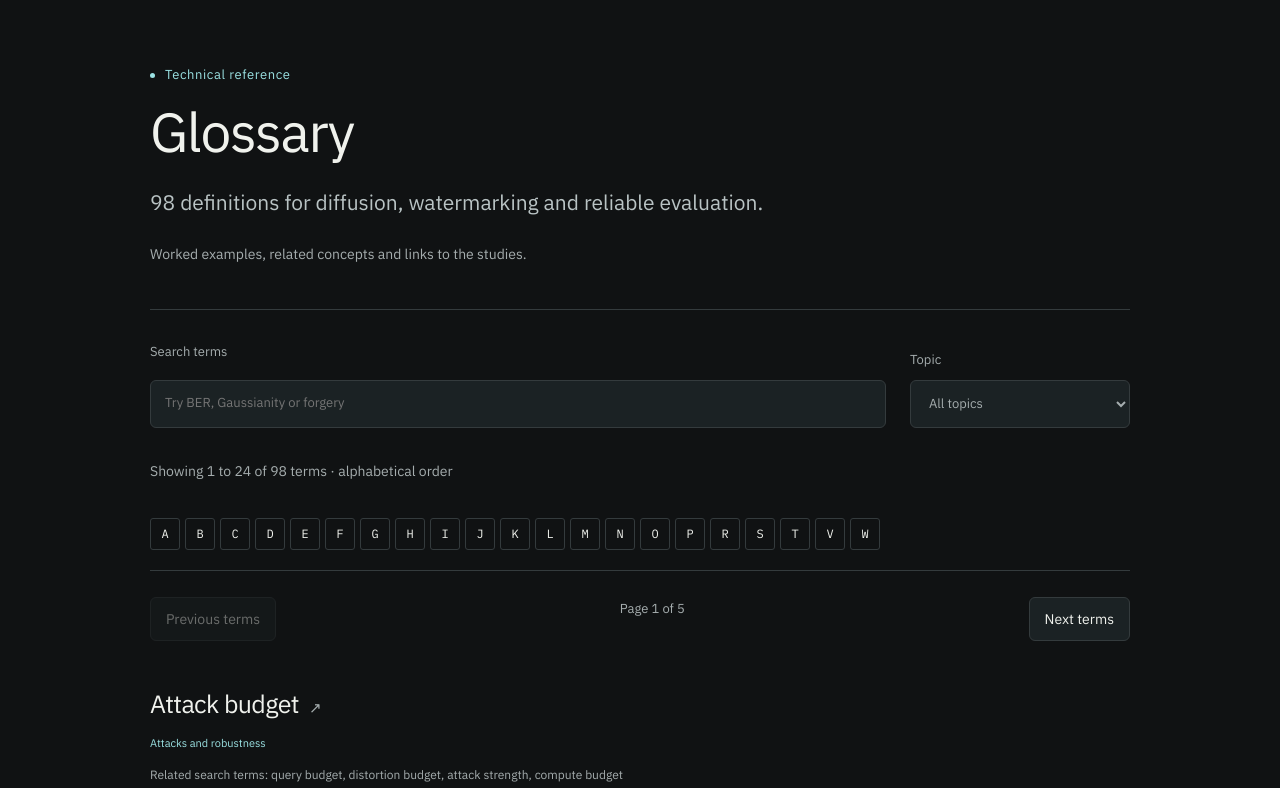
Test: glossary reading and navigation › keeps worked examples optional while the core explanation remains visible
Type "complete-message success" into the search field.
click(518, 404); type("complete-message success")  # box [150,380,886,428]
(page scrolled)
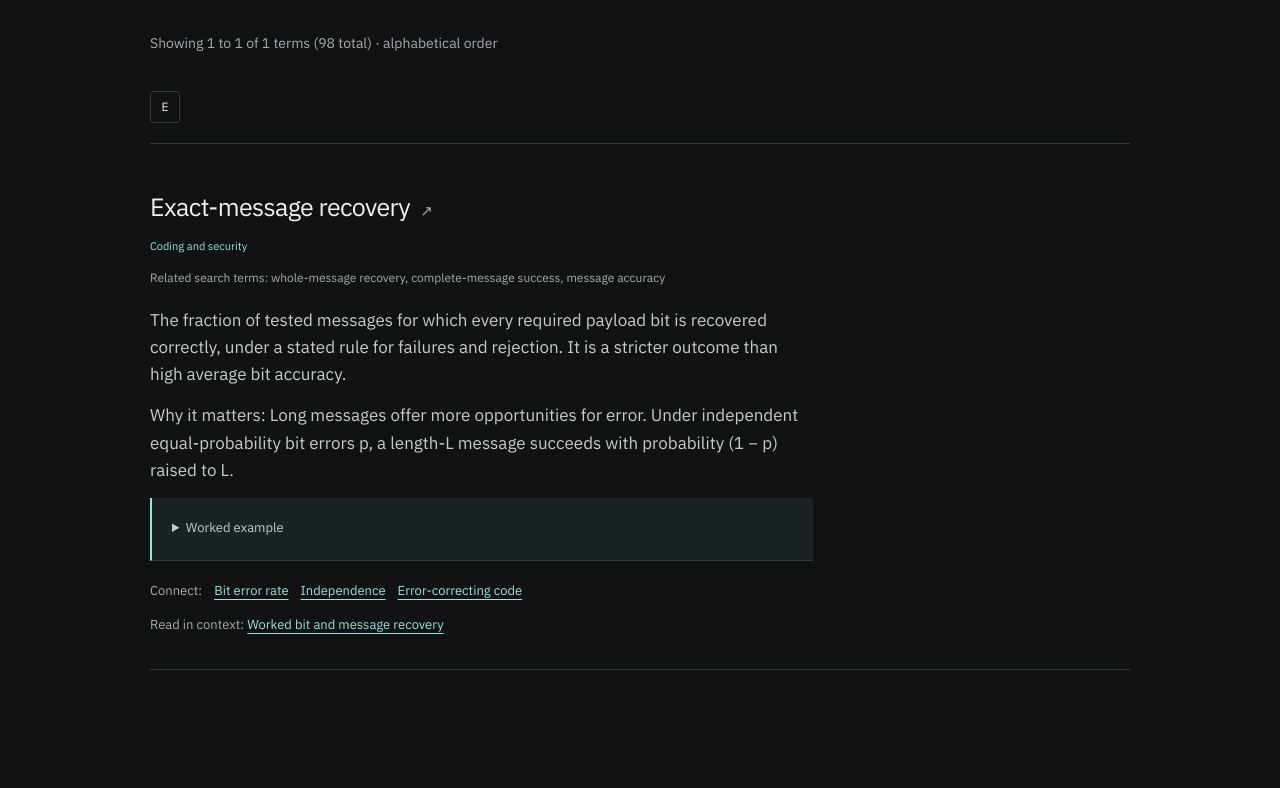
Now the text "The fraction of tested messages for which every required payload bit is recovered correctly, under a stated rule for fai" is shown, box [150,308,778,385]
Click the heading "Worked example".
click(235, 527)  # box [186,519,284,536]
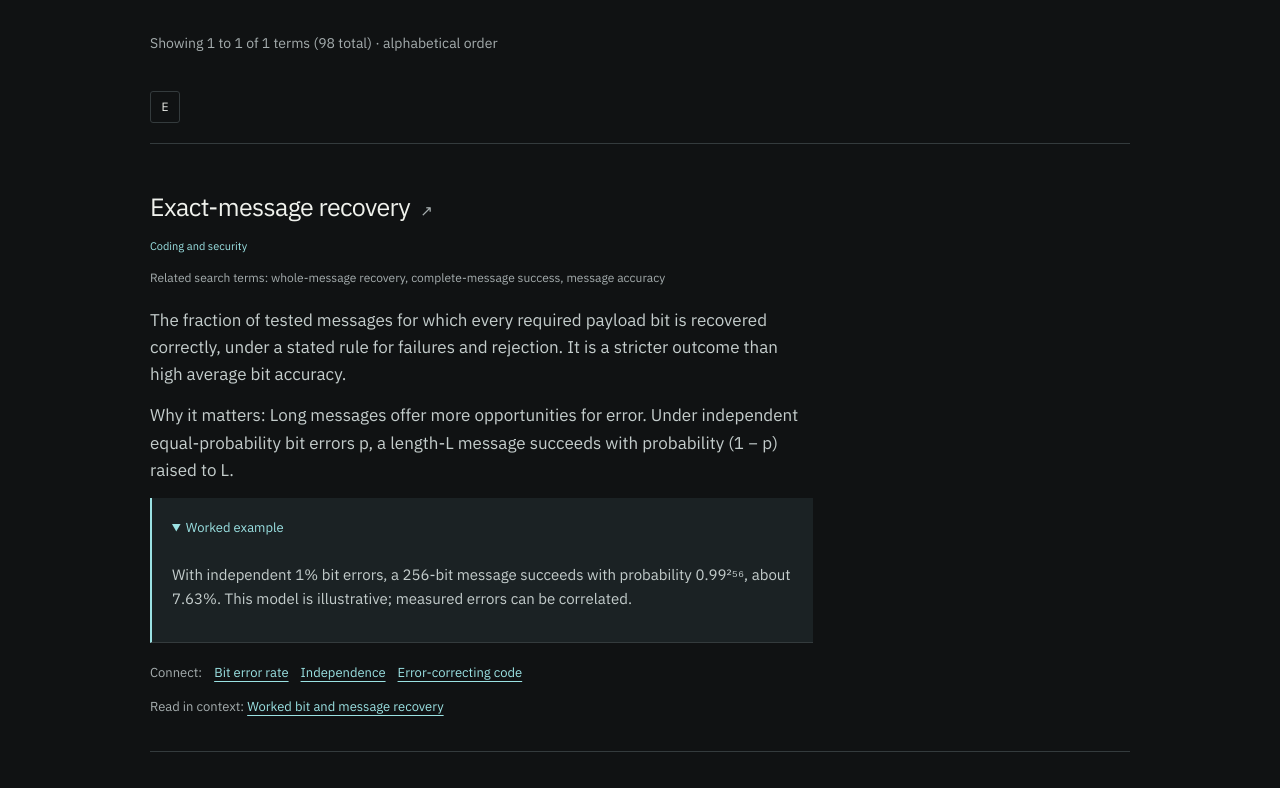
Now the text "With independent 1% bit errors, a 256-bit message succeeds with probability 0.99²⁵⁶, about 7.63%. This model is illustra" is shown, box [172,565,791,608]
